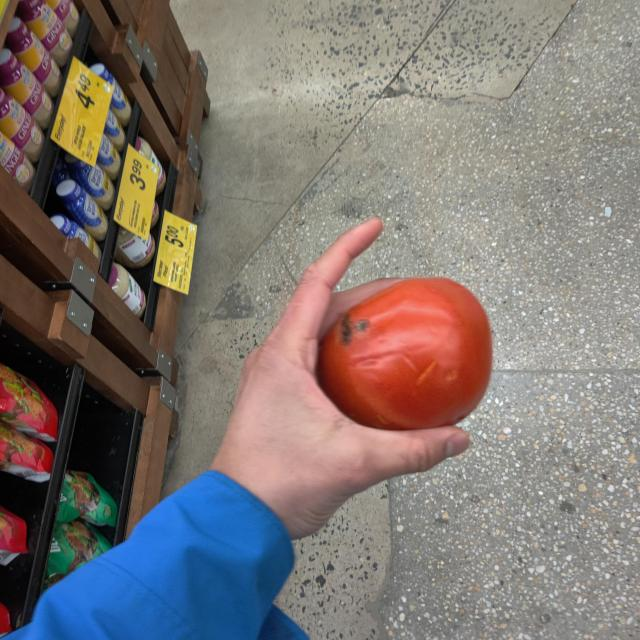Tomatoes: (314, 284, 489, 431)
